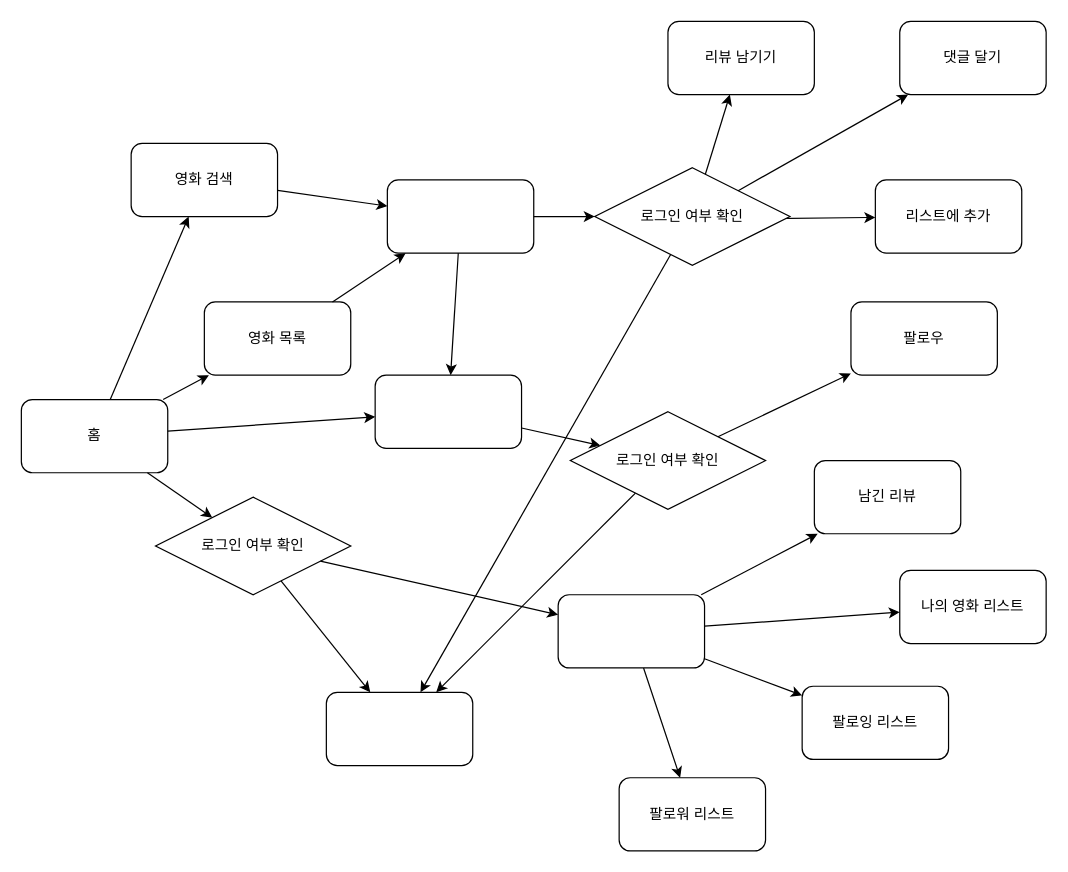
This 1068x872 diagram has some shape labels left out. The shapes that lost their labels are listed below. From the top down, each one's centre as x and y in pixels, then its label:
At [460,216]: "개별 영화 페이지".
At [448,411]: "다른 유저 프로필".
At [631,631]: "프로필".
At [399,728]: "회원 가입".
